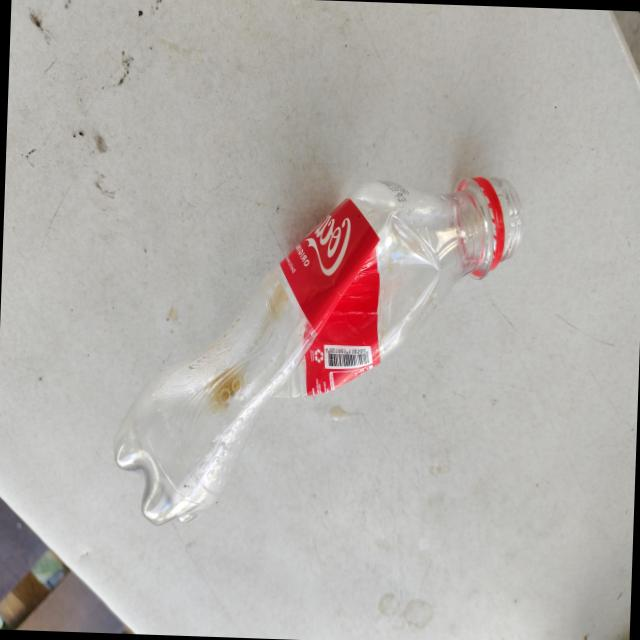Bottle: (115, 177, 521, 524)
